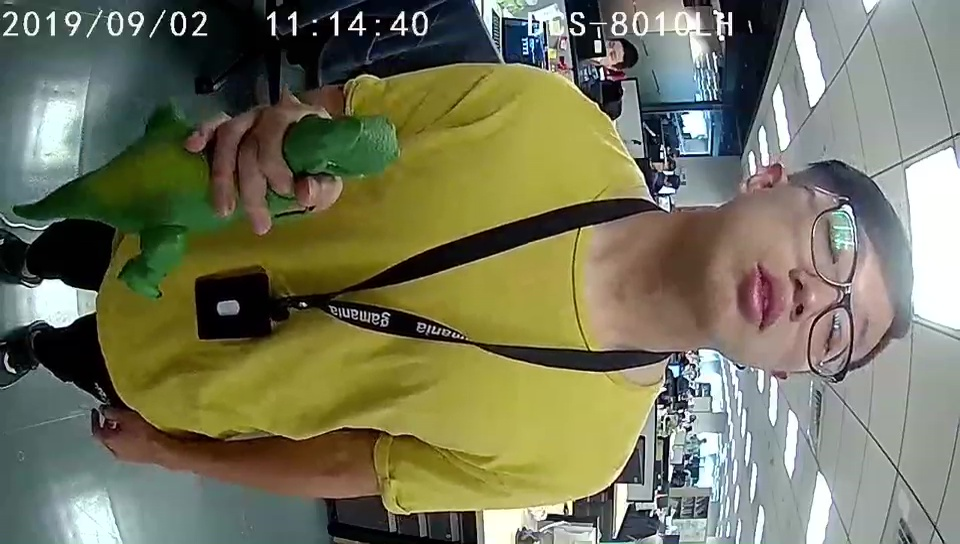rex: (117, 98, 401, 298)
